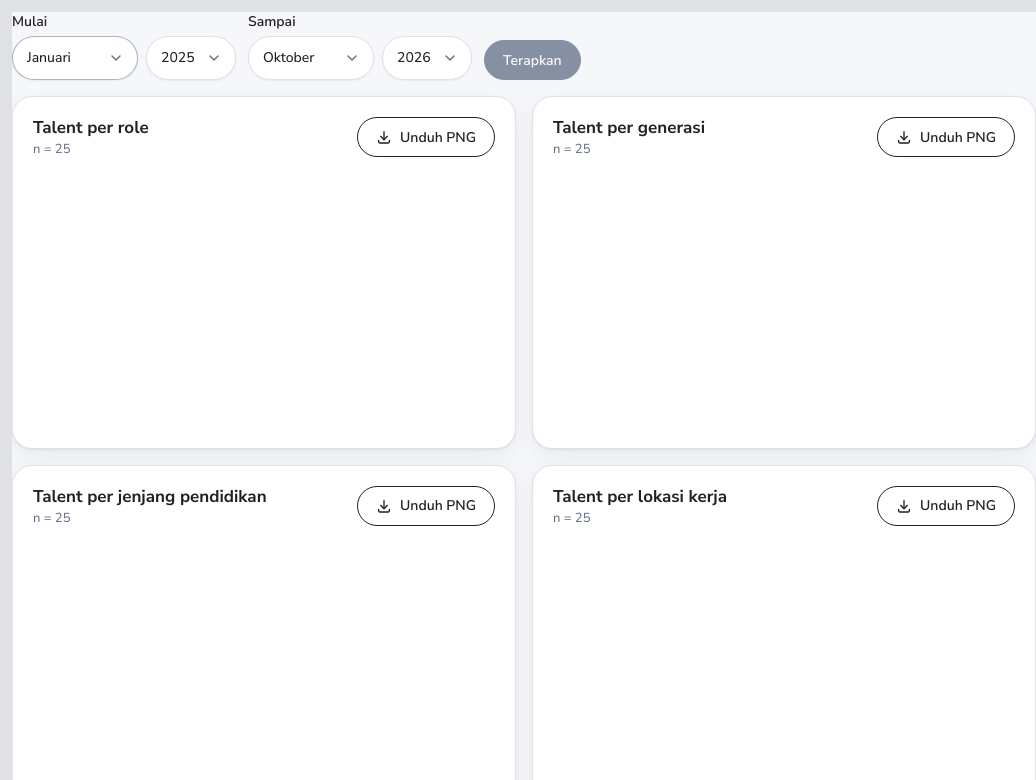
Test: TalentReportContent (T023 / SC-04, SC-05) › updates all five cards from one refetch when the period changes (SC-04)
Expected: the heading "Talent per role" is shown, [33, 117, 149, 139]
Expected: the text "n = 25" is shown 4 times, [33, 140, 70, 158]; [553, 140, 590, 158]; [33, 509, 70, 527]; [553, 509, 590, 527]
Select "2026" in the dropdown named "Tahun mulai". click: {"x": 191, "y": 58}
box: [146, 36, 236, 80]
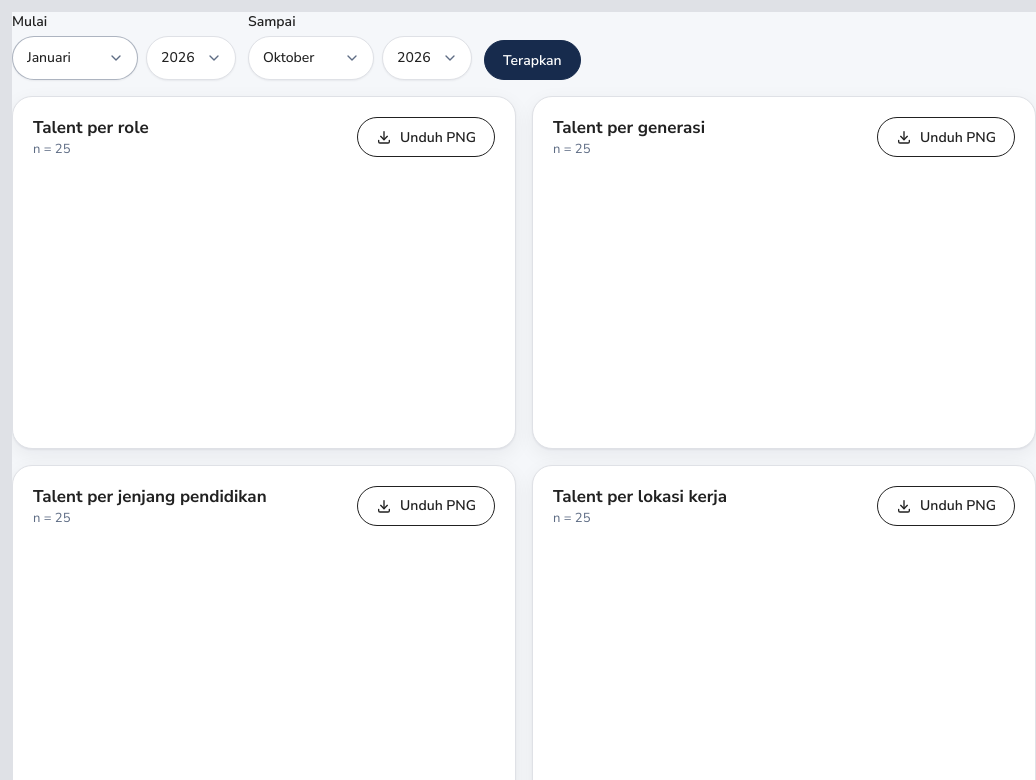
Click the button "Terapkan". click: {"x": 532, "y": 60}
box: [484, 40, 581, 80]
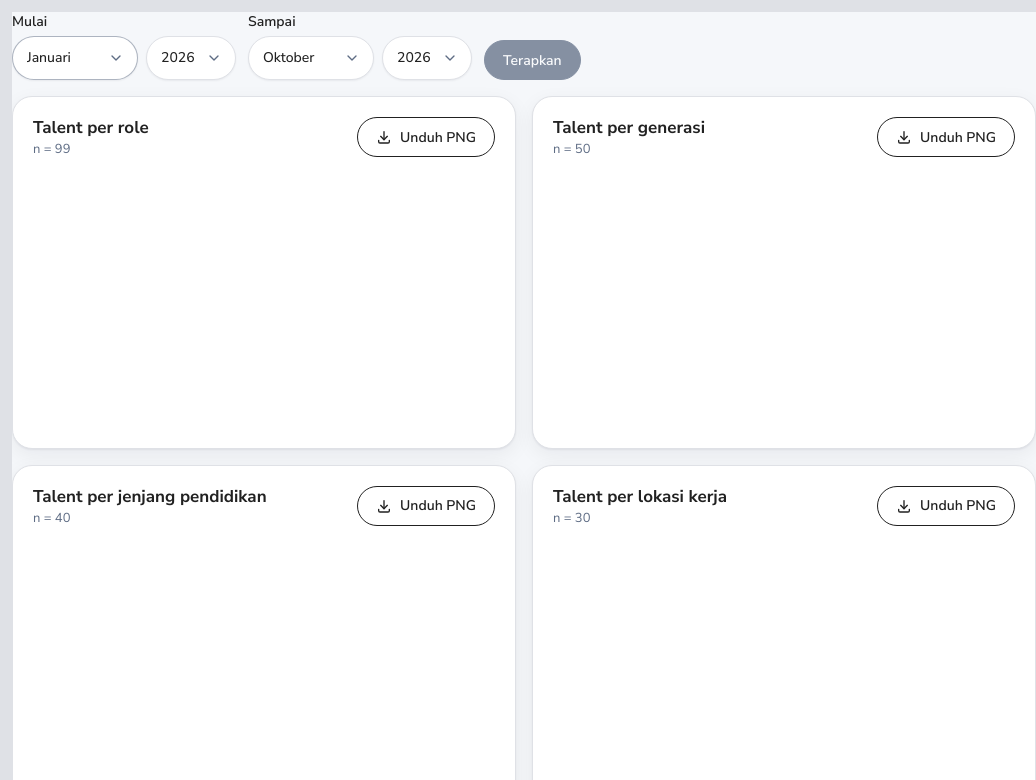
Now the text "n = 99" is shown, box [33, 140, 70, 158]
Now the text "n = 50" is shown, box [553, 140, 590, 158]
Now the text "n = 40" is shown, box [33, 509, 70, 527]
